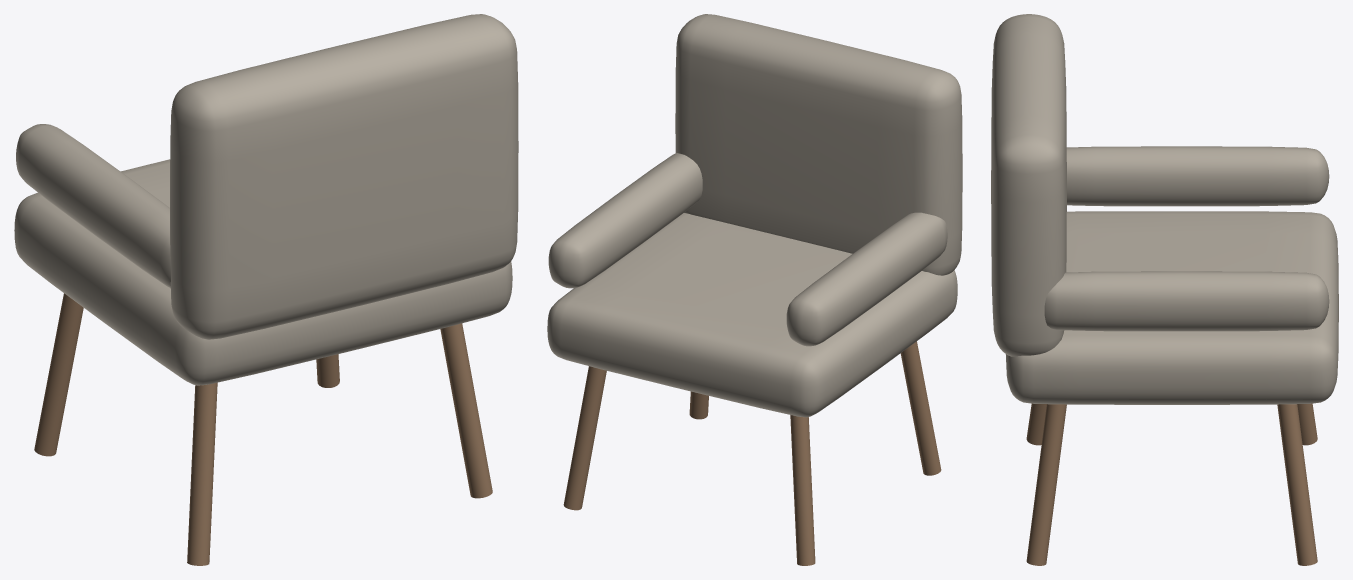
Rendered from butaca.gltf.
3 views of the same model, side by side, from view 1: azimuth 30°, elevation 25°; view 2: azimuth 150°, elevation 25°; view 3: azimuth 270°, elevation 25° (orthographic). The views are drawn at different scales.
Visible parts, largest first — view 1: respaldo, asiento, brazo-1, Cylinder, Cylinder.002, Cylinder.001, Cylinder.003; view 2: respaldo, asiento, brazo-1, brazo1, Cylinder.001, Cylinder.003, Cylinder; view 3: asiento, respaldo, brazo1, brazo-1, Cylinder.002, Cylinder.003, Cylinder.001, Cylinder.
Part boxes in pixels (box(x1,y1,x2,y2)): respaldo: box(170, 14, 518, 339); asiento: box(14, 159, 512, 385); brazo-1: box(16, 124, 170, 287); Cylinder: box(187, 382, 217, 565); Cylinder.002: box(440, 323, 492, 498); Cylinder.001: box(34, 293, 83, 456); Cylinder.003: box(316, 354, 339, 387); respaldo: box(675, 14, 962, 275); asiento: box(547, 213, 957, 417); brazo-1: box(786, 212, 947, 346); brazo1: box(548, 153, 702, 288); Cylinder.001: box(790, 415, 815, 565); Cylinder.003: box(563, 366, 606, 510); Cylinder: box(900, 341, 941, 475); asiento: box(1005, 211, 1338, 404); respaldo: box(991, 14, 1066, 356); brazo1: box(1044, 271, 1329, 331); brazo-1: box(1066, 146, 1329, 206); Cylinder.002: box(1026, 404, 1066, 565); Cylinder.003: box(1277, 404, 1317, 565); Cylinder.001: box(1297, 403, 1317, 445); Cylinder: box(1026, 403, 1046, 445).
Bounding box in the file's own units: 0.7289 × 0.9902 × 0.7292.
